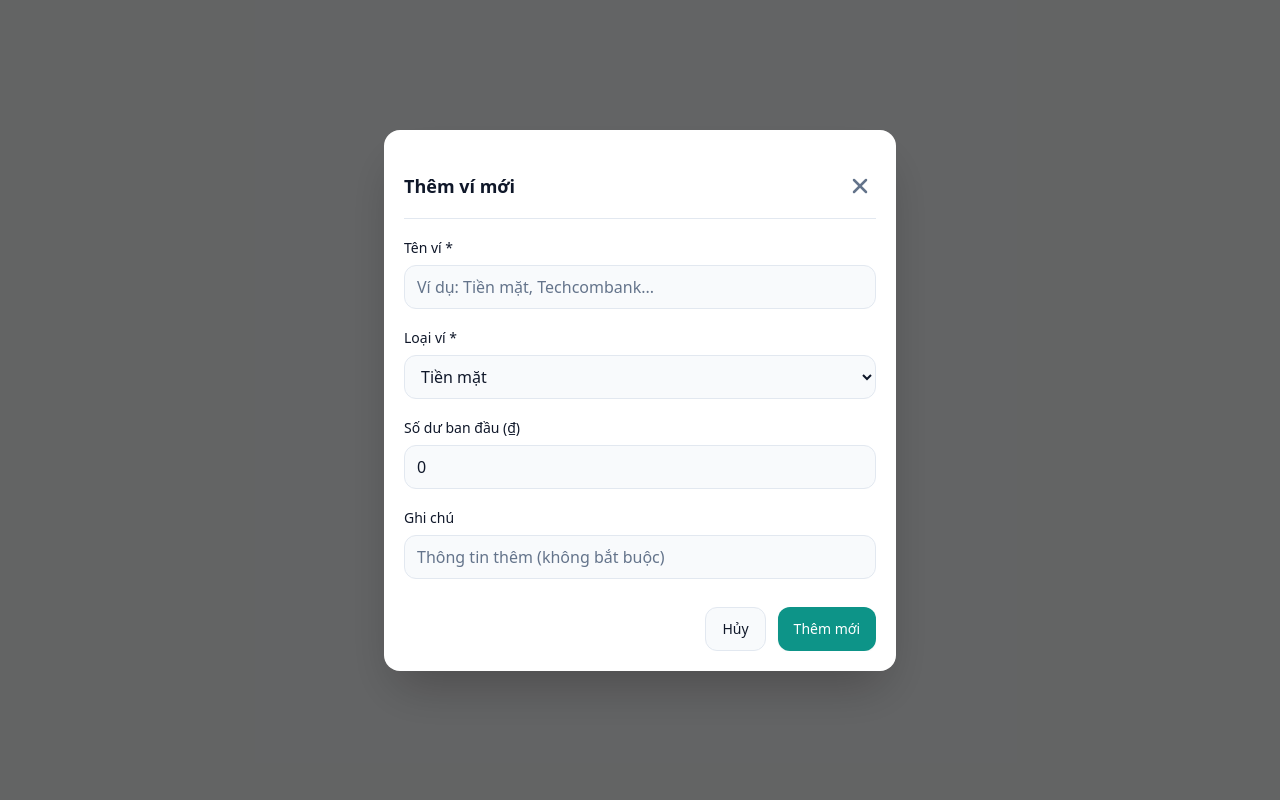
Test: AccountDialog Component Test › báo lỗi tiếng Việt khi để trống tên ví
This screenshot has width=1280, height=800.
Click the button "Thêm mới" at coordinates (827, 628), box x1=778 y1=606 x2=876 y2=650
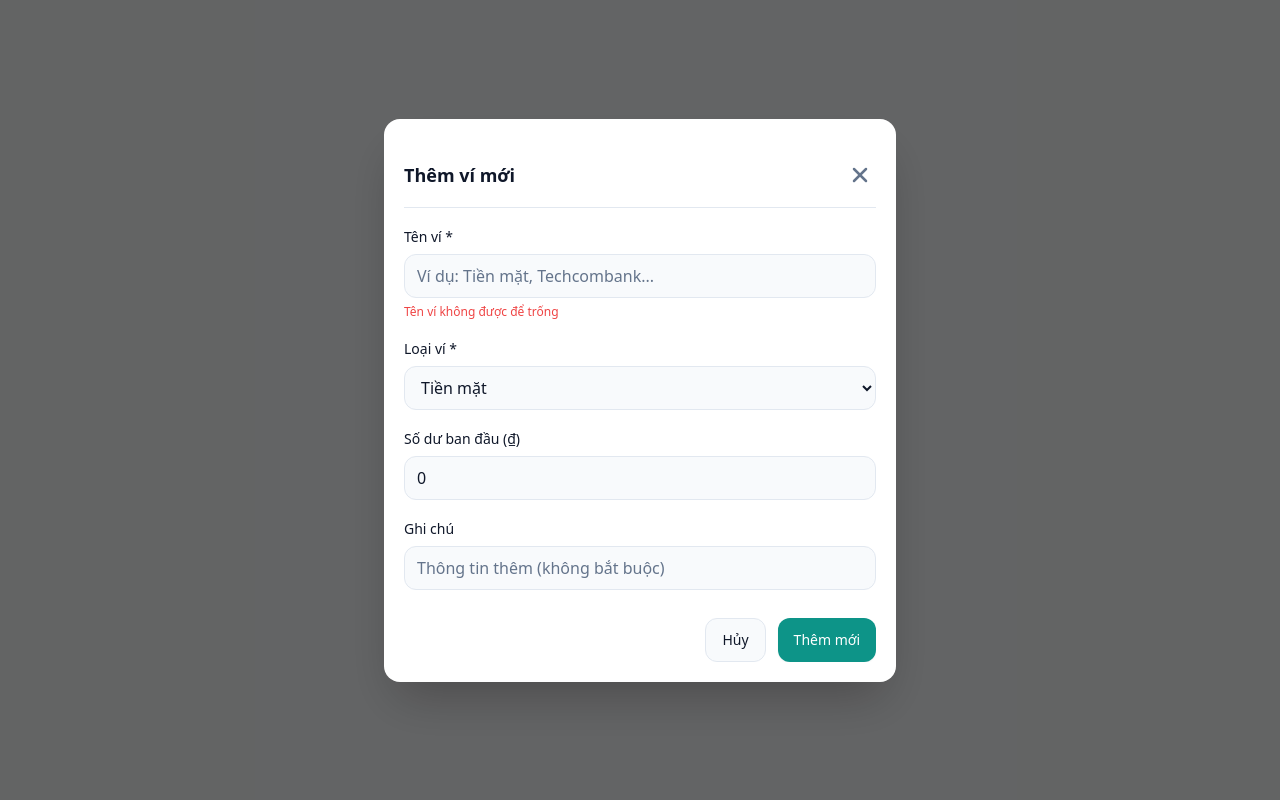
Expected: the text "Tên ví không được để trống" is shown, x1=404 y1=302 x2=559 y2=320
